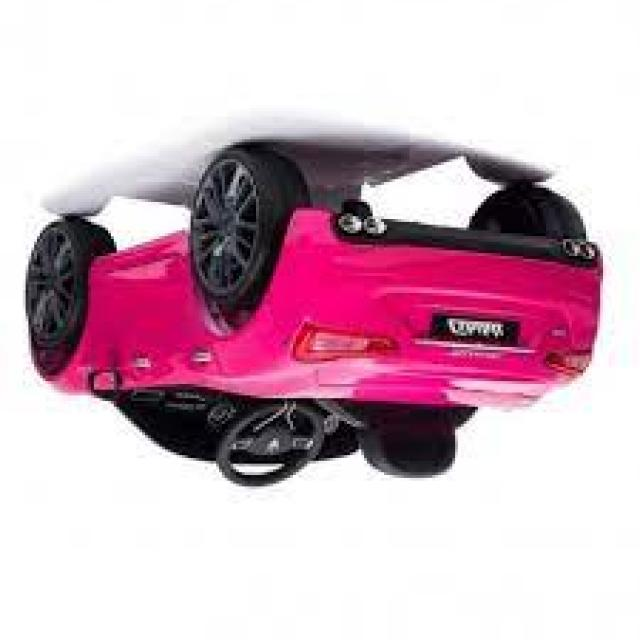Car: (23, 145, 603, 489)
